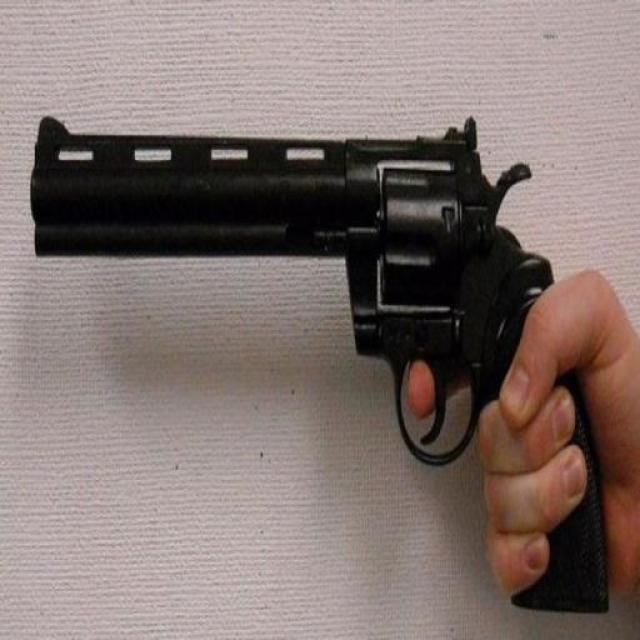pistol: (26, 106, 606, 615)
